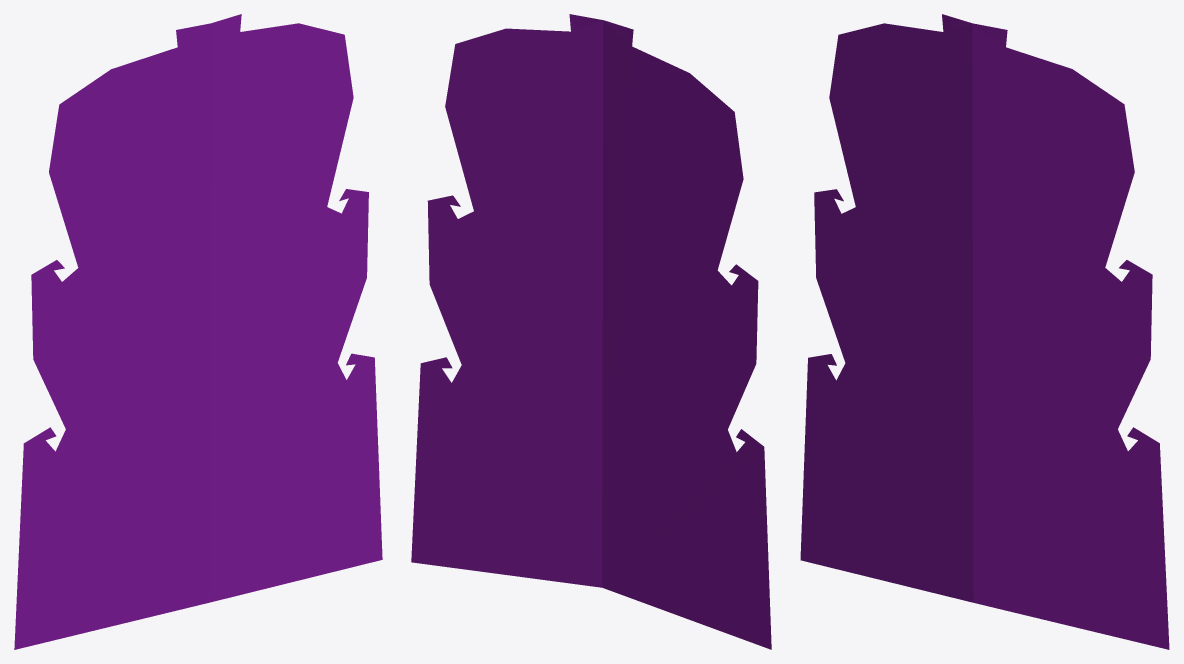
The model's file is chin_shield3.dae.
3 views of the same model, side by side, from view 1: azimuth 30°, elevation 25°; view 2: azimuth 150°, elevation 25°; view 3: azimuth 330°, elevation 25° (orthographic). The views are drawn at different scales.
Visible parts, largest first — view 1: Plane01; view 2: Plane01; view 3: Plane01.
Part boxes in pixels (<box>): Plane01: <box>14,14,382,649</box>; Plane01: <box>411,14,771,649</box>; Plane01: <box>800,14,1169,649</box>.
Size of the model in its own units: 1.18 by 0.0704 by 1.81.
